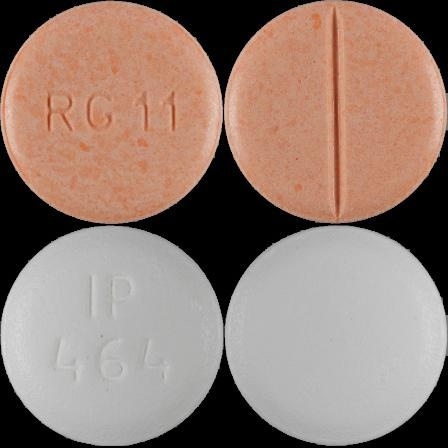51655-038: (0, 0, 224, 224)
